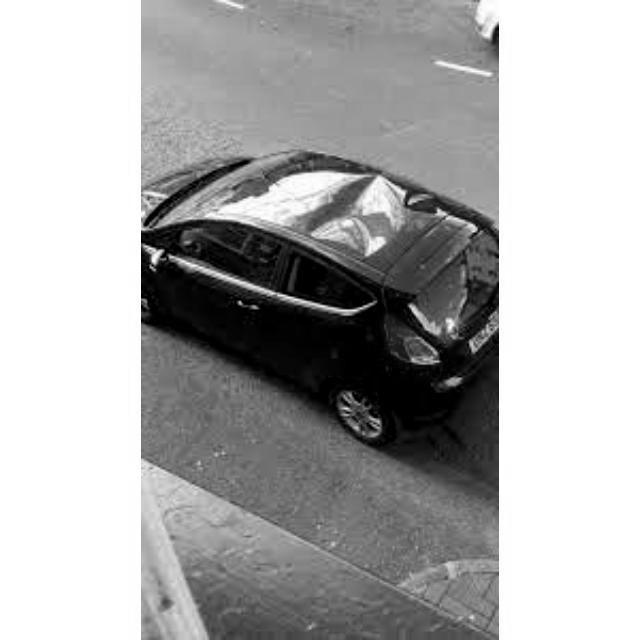roof-dent: (242, 150, 478, 275)
